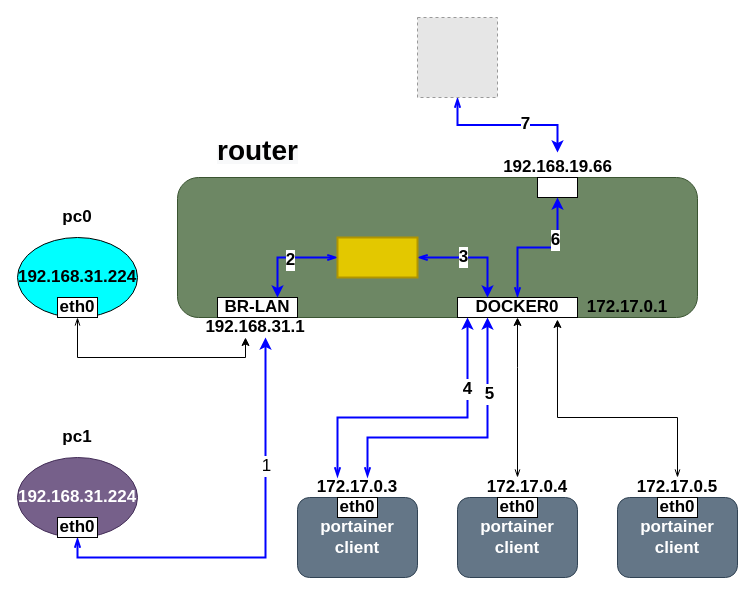
The diagram is 755 pixels wide and 595 high, and some of its shapes have lost their labels. Grey dashed boxes stand in for pictures. Each missing label, with the centre of its shape:
WAN: the point at 557,187
流分模块: the point at 377,257
